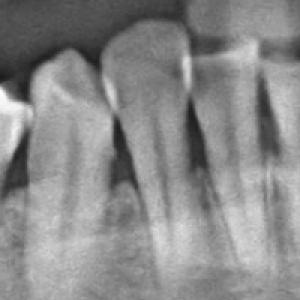tooth: (97, 17, 198, 258), (27, 46, 113, 275), (194, 49, 267, 264)
